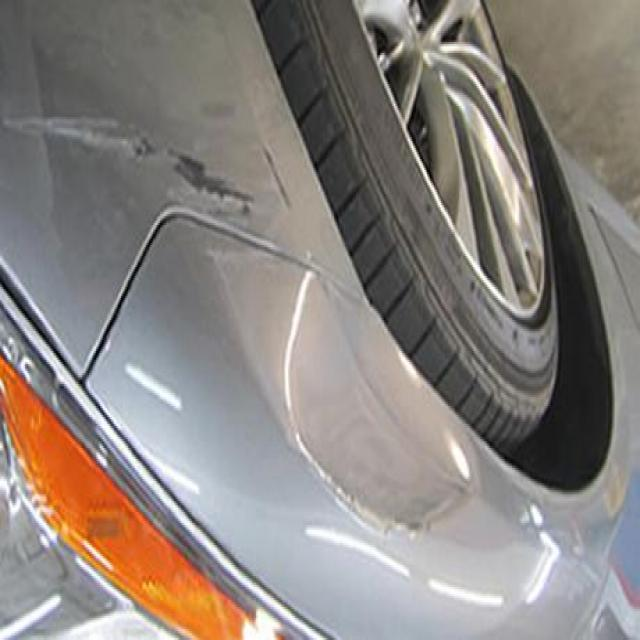scratch: (0, 67, 267, 231)
